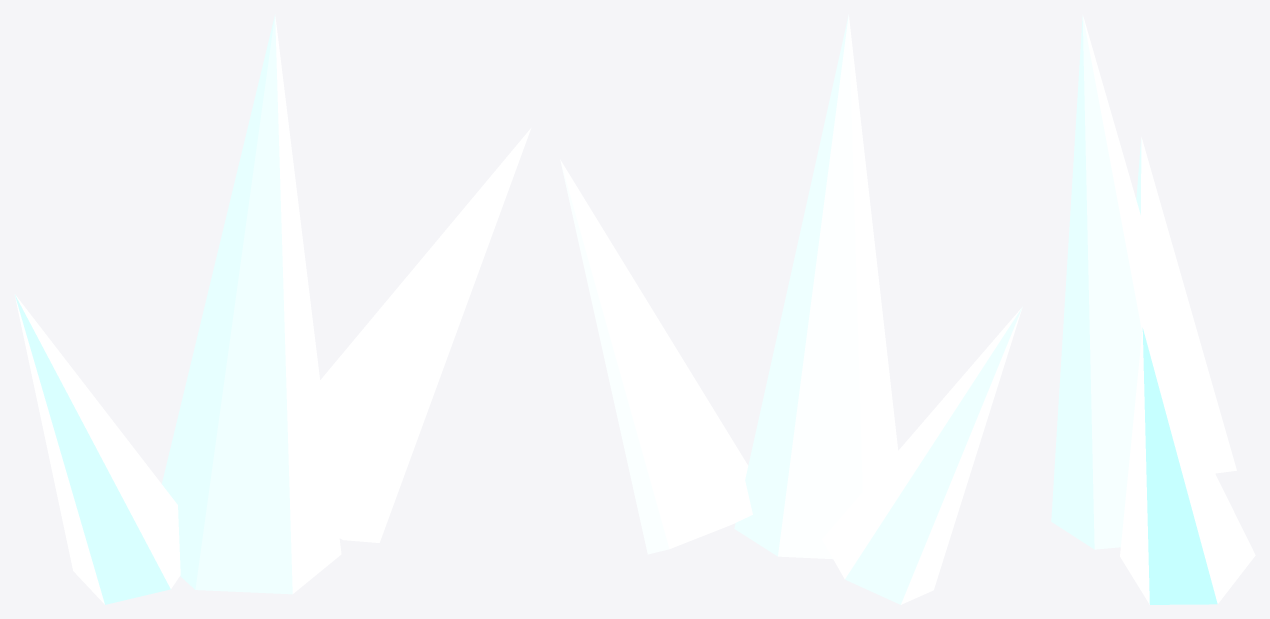
Rendered from glow_shard.glb.
The picture shows the model from 3 angles, left to right: view 1: azimuth 30°, elevation 25°; view 2: azimuth 150°, elevation 25°; view 3: azimuth 270°, elevation 25°; orthographic projection. The views are drawn at different scales.
Visible parts, largest first — view 1: glow_shard; view 2: glow_shard; view 3: glow_shard.
Boxes of the visible parts, x1,y1,x2,y2 form: glow_shard: (14, 14, 531, 604); glow_shard: (560, 14, 1022, 604); glow_shard: (1051, 15, 1255, 604).
Bounding box in the file's own units: 0.4295 × 0.4686 × 0.1642.
